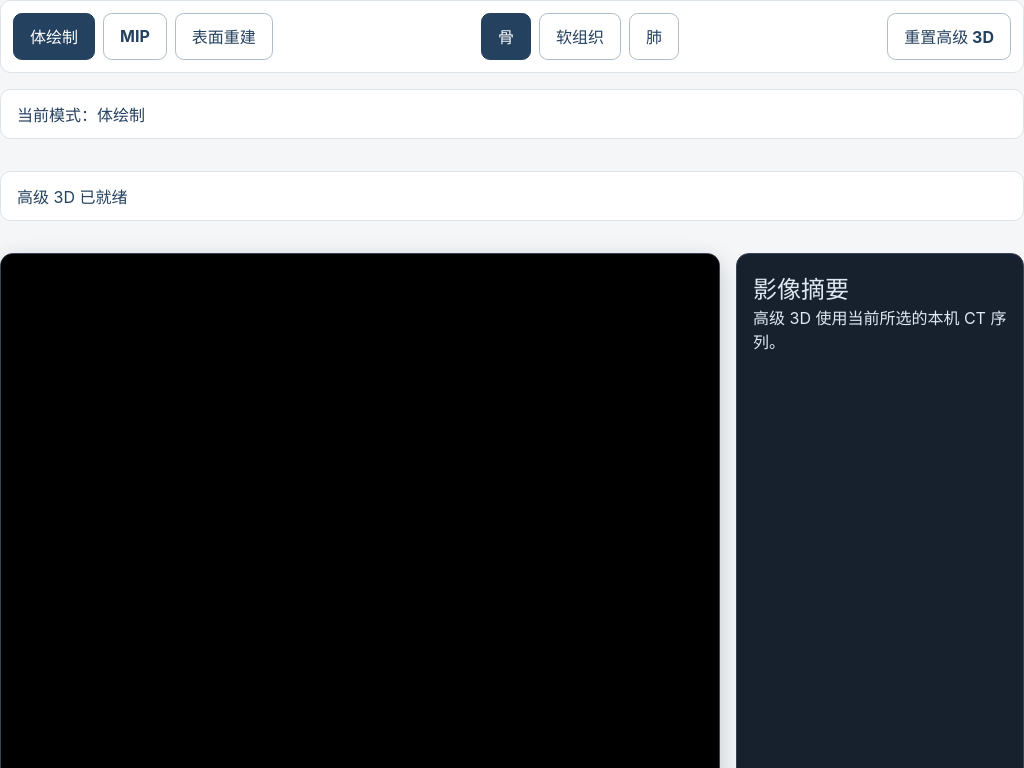
Scenario: resets a generated surface to volume mode and the default threshold state
The image size is (1024, 768).
Click the button "表面重建" at (224, 36), box 175,13 -> 273,60
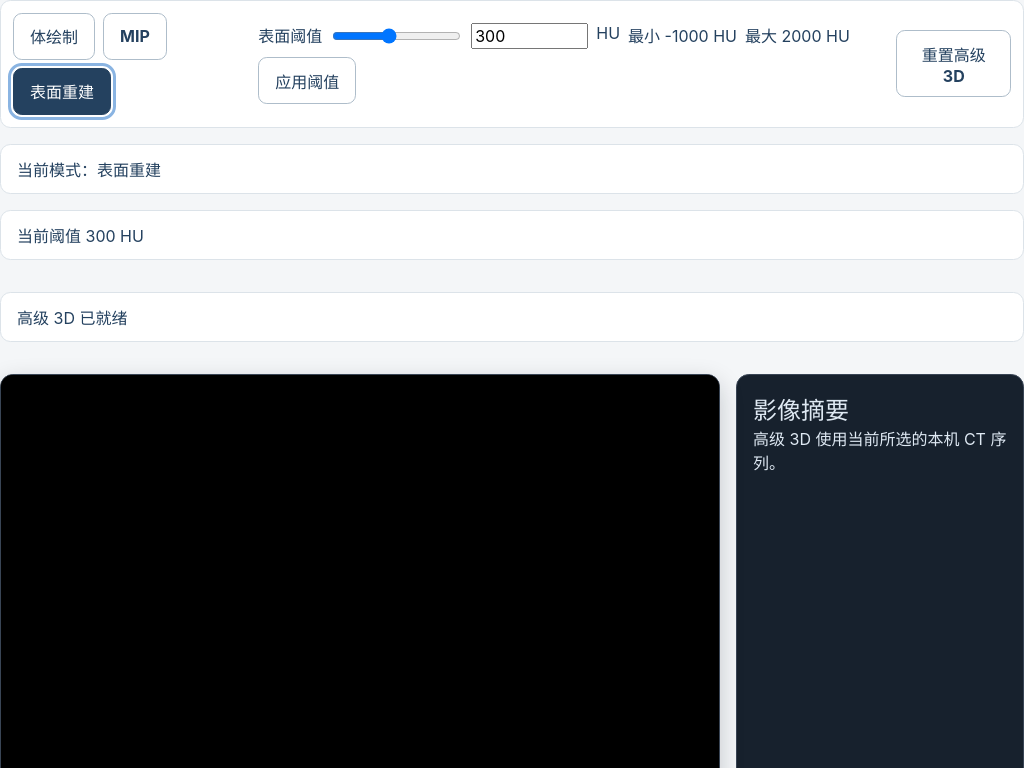
Replace the text in the number field named "表面阈值" with "450" at (530, 36), box 471,23 -> 588,49
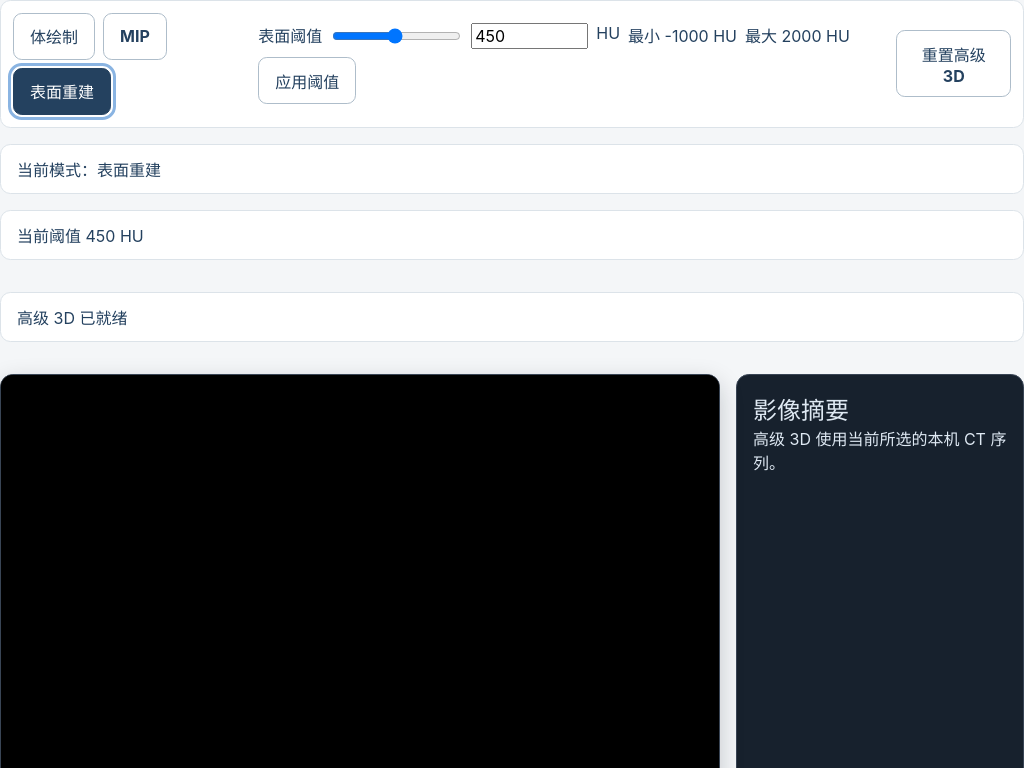
Click the button "应用阈值" at (307, 81), box 258,57 -> 356,104
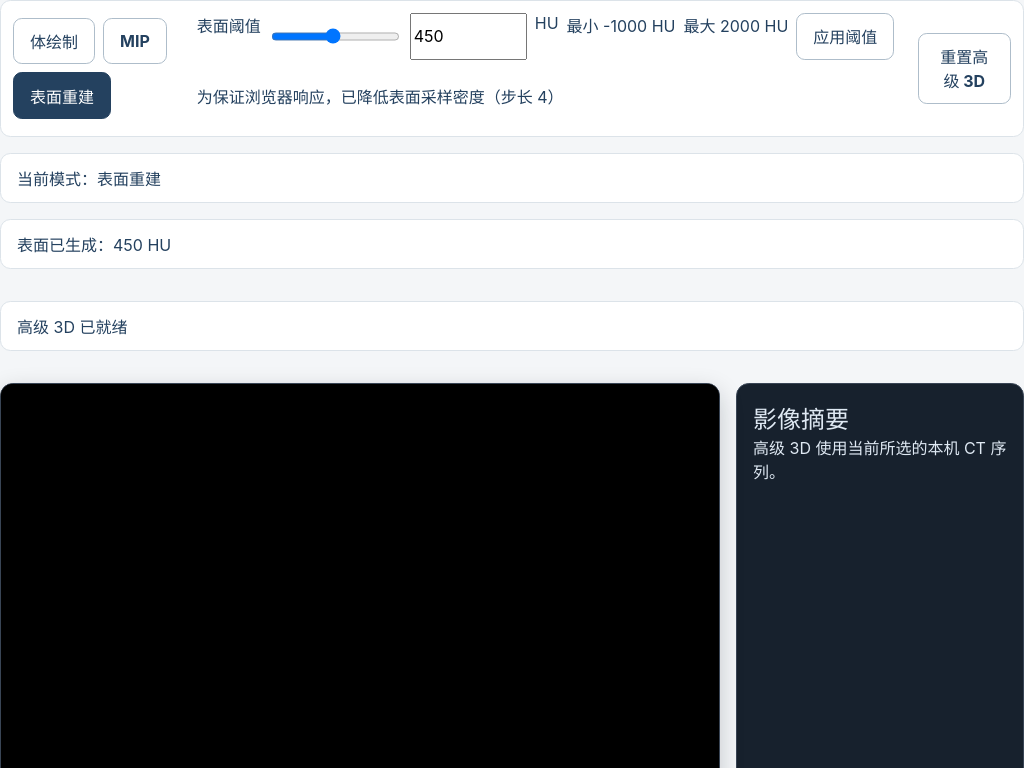
Now the text "表面已生成：450 HU" is shown, box 0,219 -> 1023,269
Click the button "重置高级 3D" at (964, 68), box 918,33 -> 1011,104
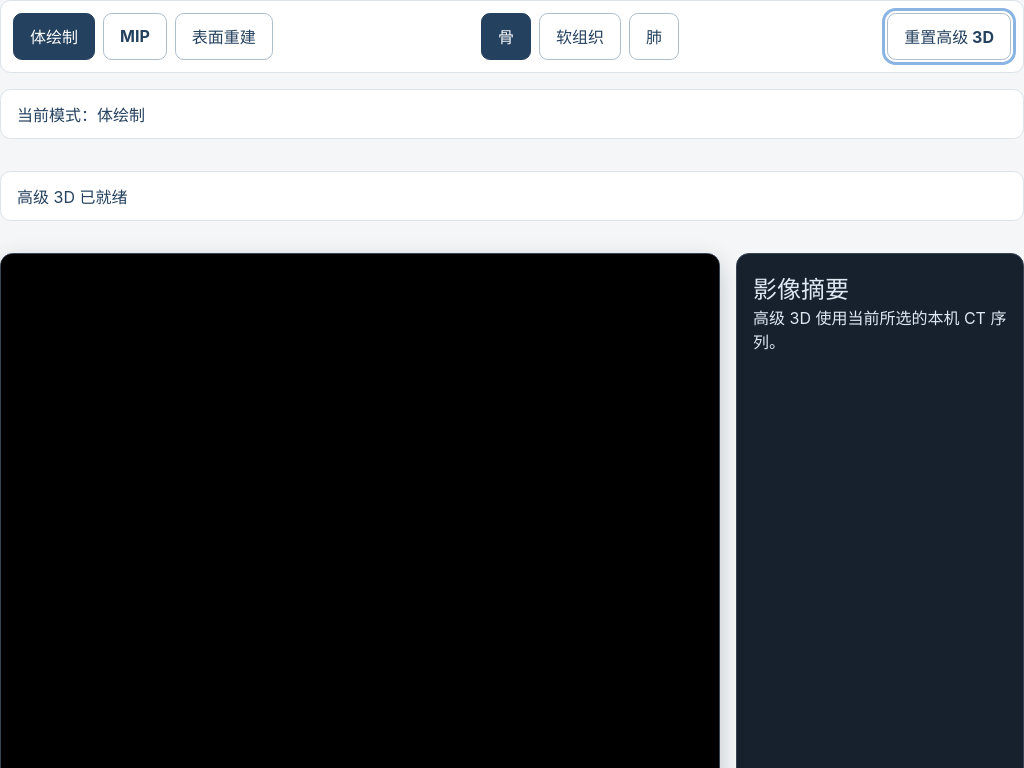
Now the text "当前模式：体绘制" is shown, box 0,89 -> 1023,139
Click the button "表面重建" at (224, 36), box 175,13 -> 273,60
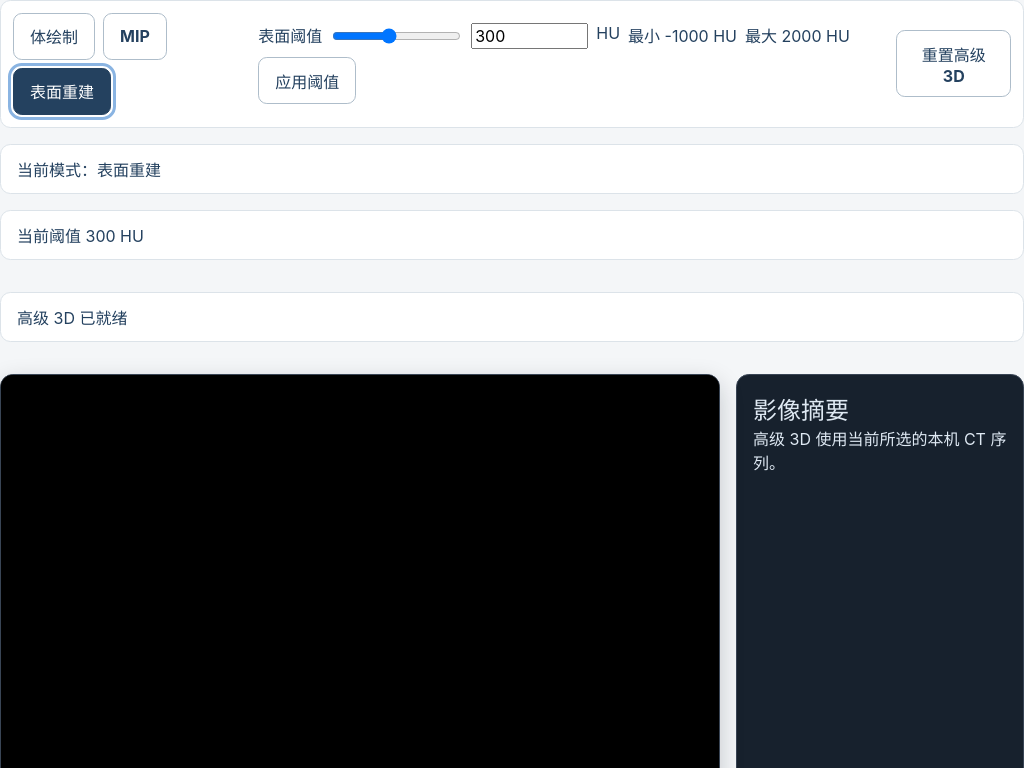
Expected: the text "已降低表面采样密度" is not shown
Now the number field named "表面阈值" holds "300", box 471,23 -> 588,49
Now the text "当前阈值 300 HU" is shown, box 0,210 -> 1023,260
